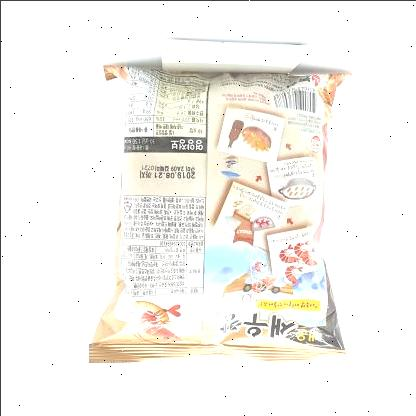Others: (81, 54, 358, 369)
